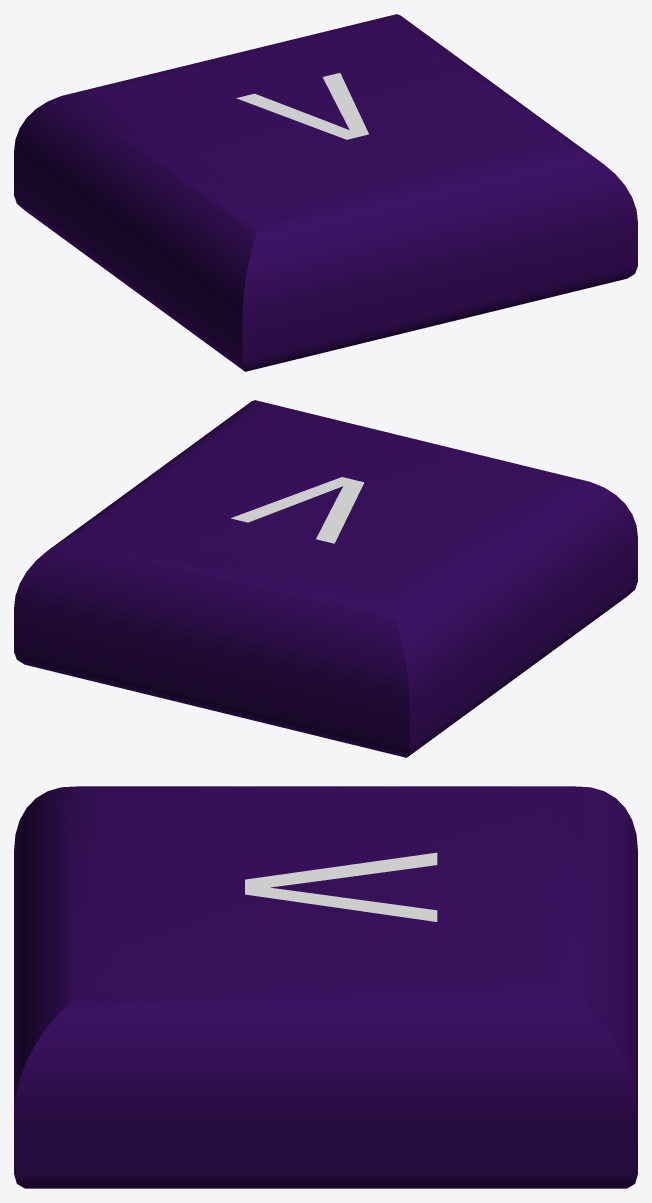
File: v-key.glb
3 views of the same model, one above another, from view 1: azimuth 30°, elevation 25°; view 2: azimuth 150°, elevation 25°; view 3: azimuth 270°, elevation 25° (orthographic). The views are drawn at different scales.
Parts seen in each view (by area): view 1: Cube, Text; view 2: Cube, Text; view 3: Cube, Text.
Part boxes in pixels (x1,y1,x2,y2): Cube: (14, 14, 637, 371); Text: (236, 73, 368, 139); Cube: (14, 400, 637, 757); Text: (231, 477, 364, 543); Cube: (14, 786, 637, 1188); Text: (245, 852, 437, 921).
Size of the model in its own units: 1.34 by 0.4228 by 1.34.
